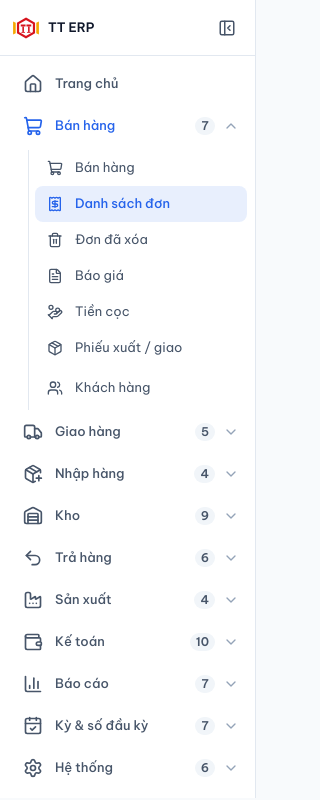
Test: Sidebar + không gian làm việc › thu gọn/mở rộng sidebar được lưu theo tài khoản (gửi lên server), không dùng localStorage
Click the button named "Thu gọn thanh bên": (227,28) [211,12,243,44]
Wait 600 ms
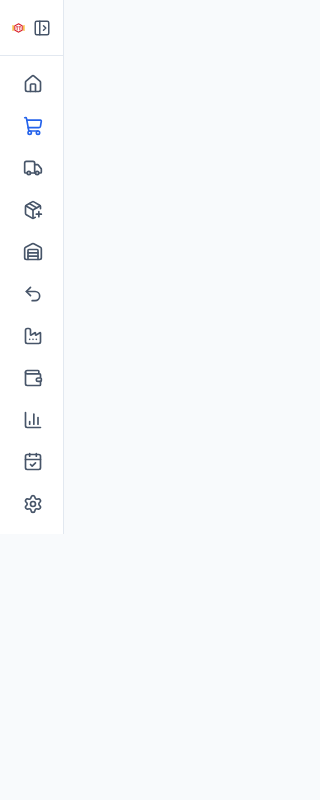
Expected: the button named "Mở rộng thanh bên" is shown, [33,12,51,44]
